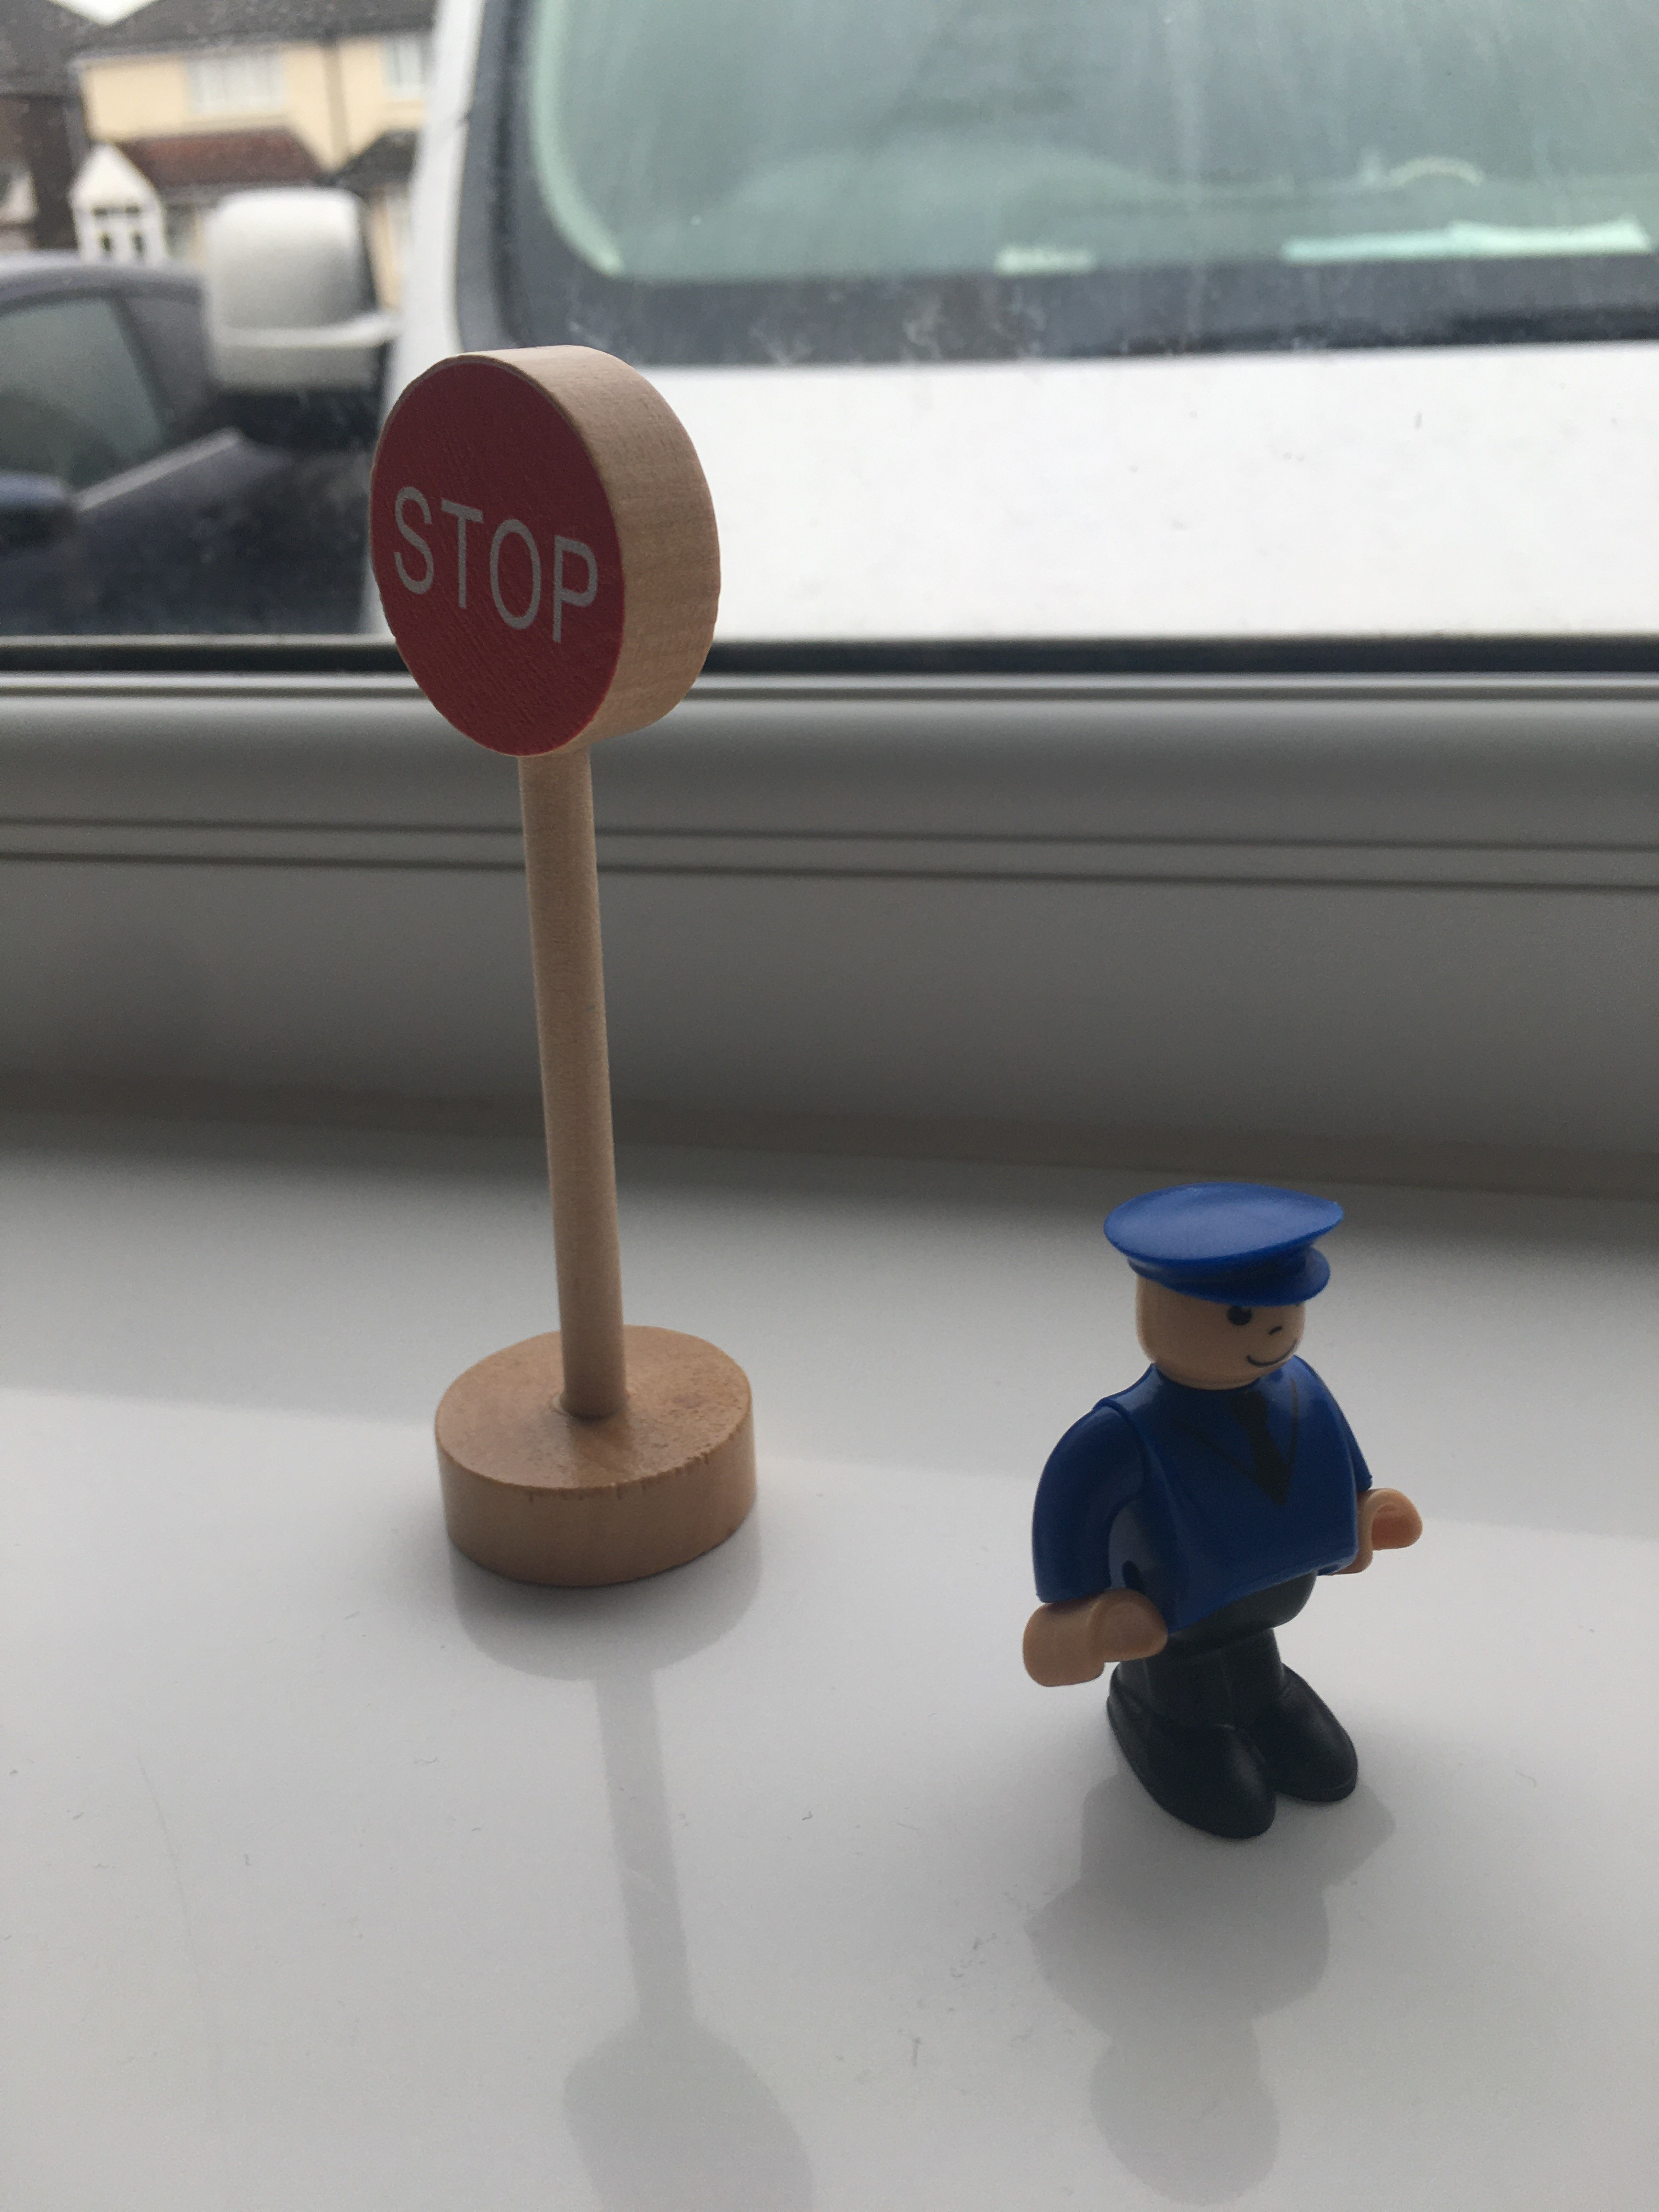Traffic_Sign_Stop: (365, 351, 628, 752)
person: (1017, 1171, 1429, 1863)
